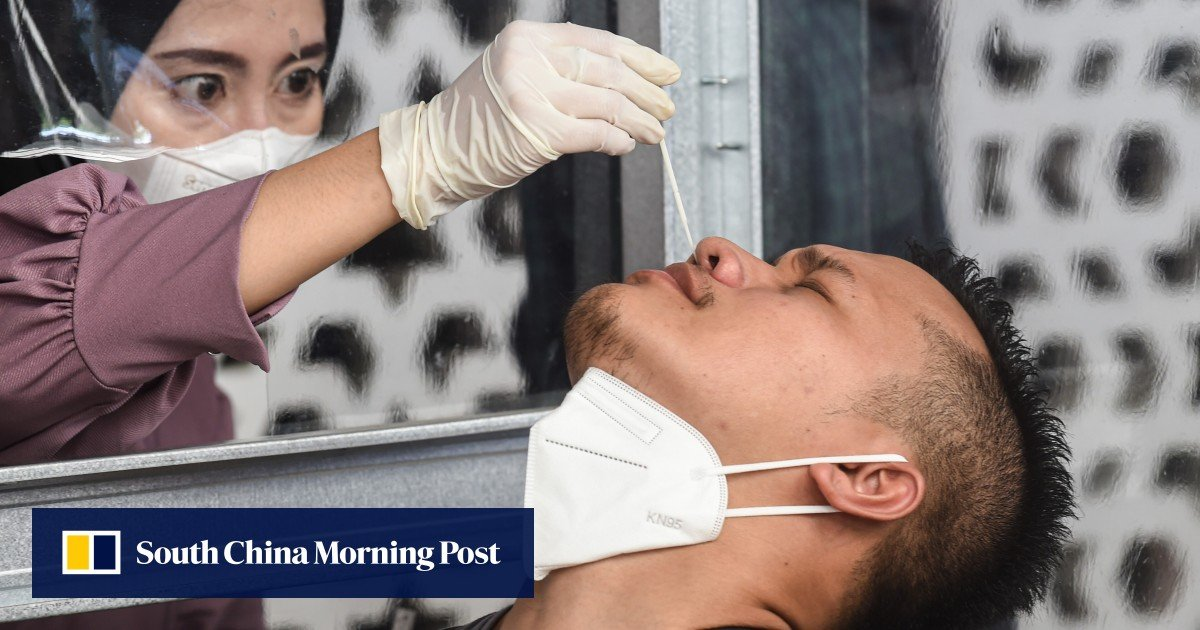Gloves: (371, 11, 682, 237)
mask_weared_incorrect: (518, 233, 877, 566)
with_mask: (126, 4, 323, 217)
